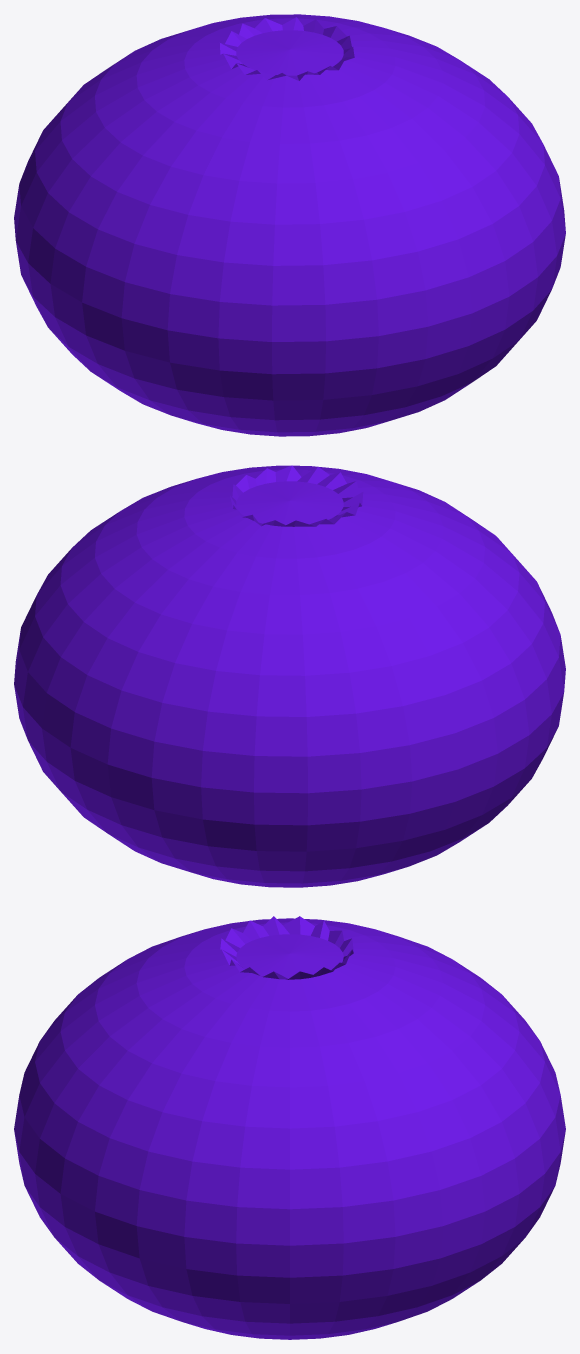
The model's file is blueberry.fbx.
The picture shows the model from 3 angles, top to bottom: view 1: azimuth 30°, elevation 25°; view 2: azimuth 150°, elevation 25°; view 3: azimuth 270°, elevation 25°; orthographic projection.
Parts seen in each view (by area): view 1: Sphere; view 2: Sphere; view 3: Sphere.
Boxes of the visible parts, bbox=[...] form: Sphere: bbox=[14, 14, 565, 436]; Sphere: bbox=[14, 465, 565, 887]; Sphere: bbox=[14, 916, 565, 1339].
Bounding box in the file's own units: 200 × 143 × 200.
